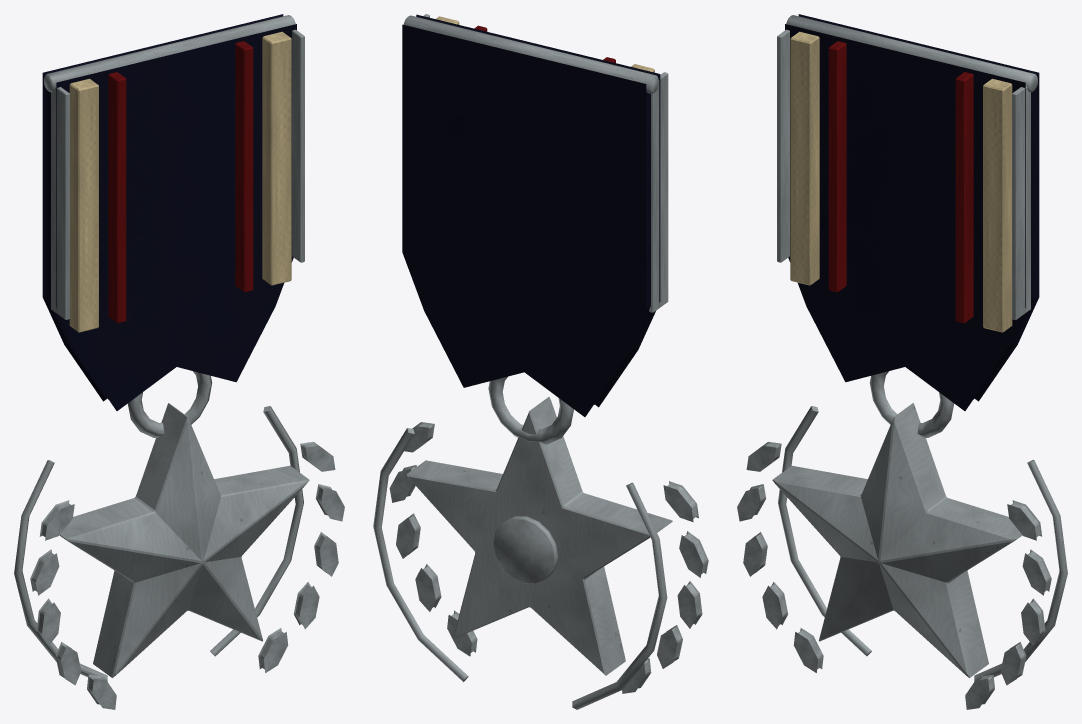
The model's file is silver_medal_LOD1.glb.
3 renders of one model, left to right at view 1: azimuth 30°, elevation 25°; view 2: azimuth 150°, elevation 25°; view 3: azimuth 330°, elevation 25°, orthographic.
Parts seen in each view (by area): view 1: Woven folded ribbon, Deep faceted five point star, Ivory woven ribbon stripe.001, Ivory woven ribbon stripe, Red ribbon pinstripe, Red ribbon pinstripe.001, Ribbon stitched edge, Ribbon stitched edge.001, Ribbon top retaining bar, Laurel branch 1, Laurel branch -1, Hanging ring (+10 smaller); view 2: Woven folded ribbon, Deep faceted five point star, Ribbon stitched edge, Inferred star rear fastening disk, Ribbon top retaining bar, Laurel branch 1, Laurel branch -1, Hanging ring, Laurel pointed leaf -1-4, Laurel pointed leaf -1-3, Laurel pointed leaf 1-1, Laurel pointed leaf -1-2 (+5 smaller); view 3: Woven folded ribbon, Deep faceted five point star, Ivory woven ribbon stripe, Ivory woven ribbon stripe.001, Red ribbon pinstripe.001, Red ribbon pinstripe, Ribbon stitched edge.001, Ribbon stitched edge, Ribbon top retaining bar, Laurel branch -1, Laurel branch 1, Hanging ring (+10 smaller).
Boxes of the visible parts, x1,y1,x2,y2 form: Woven folded ribbon: (42,14,296,410); Deep faceted five point star: (59,403,309,677); Ivory woven ribbon stripe.001: (262,31,291,285); Ivory woven ribbon stripe: (69,78,98,332); Red ribbon pinstripe: (108,72,126,323); Red ribbon pinstripe.001: (235,41,253,292); Ribbon stitched edge: (51,86,69,319); Ribbon stitched edge.001: (292,29,304,262); Ribbon top retaining bar: (44,15,295,92); Laurel branch 1: (210,406,303,656); Laurel branch -1: (14,460,107,681); Hanging ring: (127,371,212,437); Woven folded ribbon: (402,14,660,416); Deep faceted five point star: (406,397,672,675); Ribbon stitched edge: (649,72,668,312); Inferred star rear fastening disk: (493,516,558,583); Ribbon top retaining bar: (403,15,658,93); Laurel branch 1: (373,428,468,681); Laurel branch -1: (572,482,667,709); Hanging ring: (488,376,573,444); Laurel pointed leaf -1-4: (663,481,698,522); Laurel pointed leaf -1-3: (679,531,708,577); Laurel pointed leaf 1-1: (415,564,441,611); Laurel pointed leaf -1-2: (677,581,702,628); Woven folded ribbon: (785,14,1039,410); Deep faceted five point star: (772,403,1022,677); Ivory woven ribbon stripe: (790,31,819,285); Ivory woven ribbon stripe.001: (983,78,1012,332); Red ribbon pinstripe.001: (955,72,973,323); Red ribbon pinstripe: (828,41,846,292); Ribbon stitched edge.001: (1012,86,1030,319); Ribbon stitched edge: (777,29,789,262); Ribbon top retaining bar: (786,15,1037,92); Laurel branch -1: (778,406,871,656); Laurel branch 1: (974,460,1067,681); Hanging ring: (869,371,954,437).
Size of the model in its own units: 0.1316 by 0.2575 by 0.034.
Materials: 4 (4 with a texture image).
